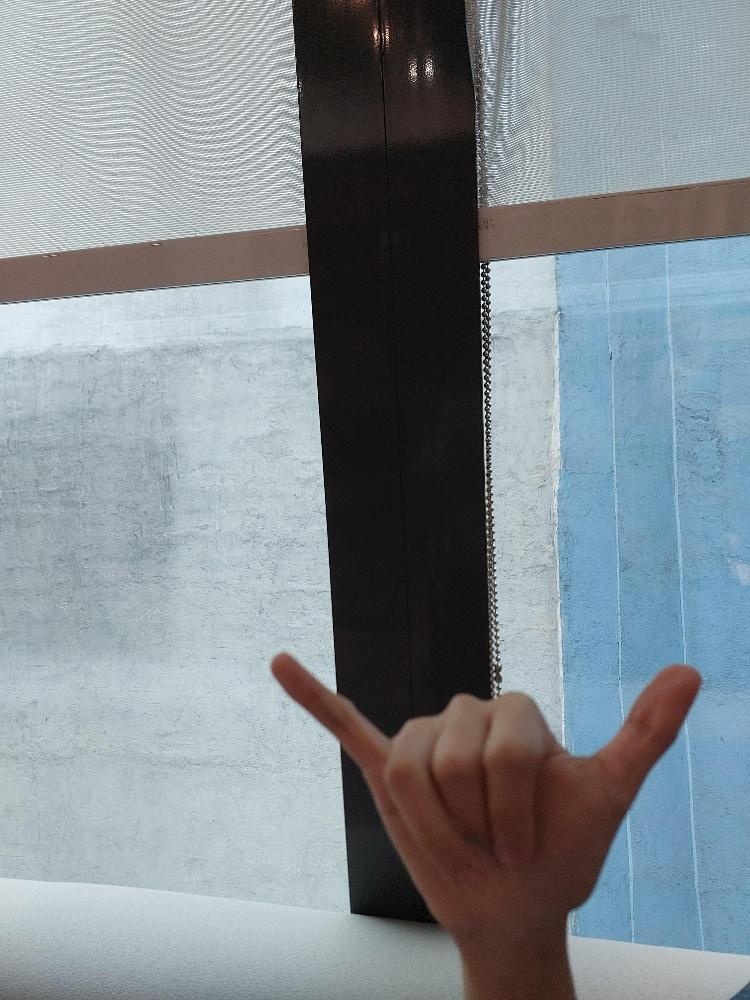y: (269, 648, 699, 912)
